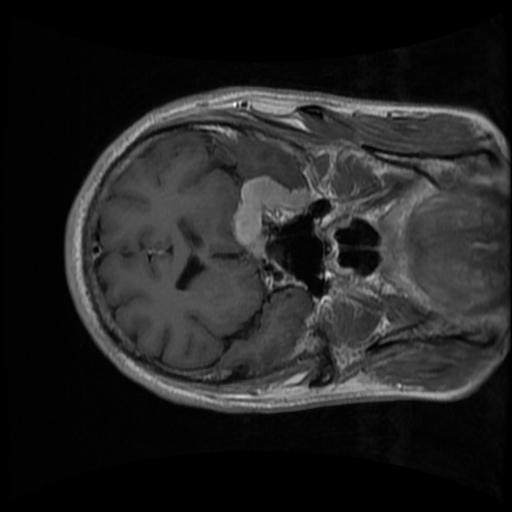meningioma: (233, 175, 311, 259)
